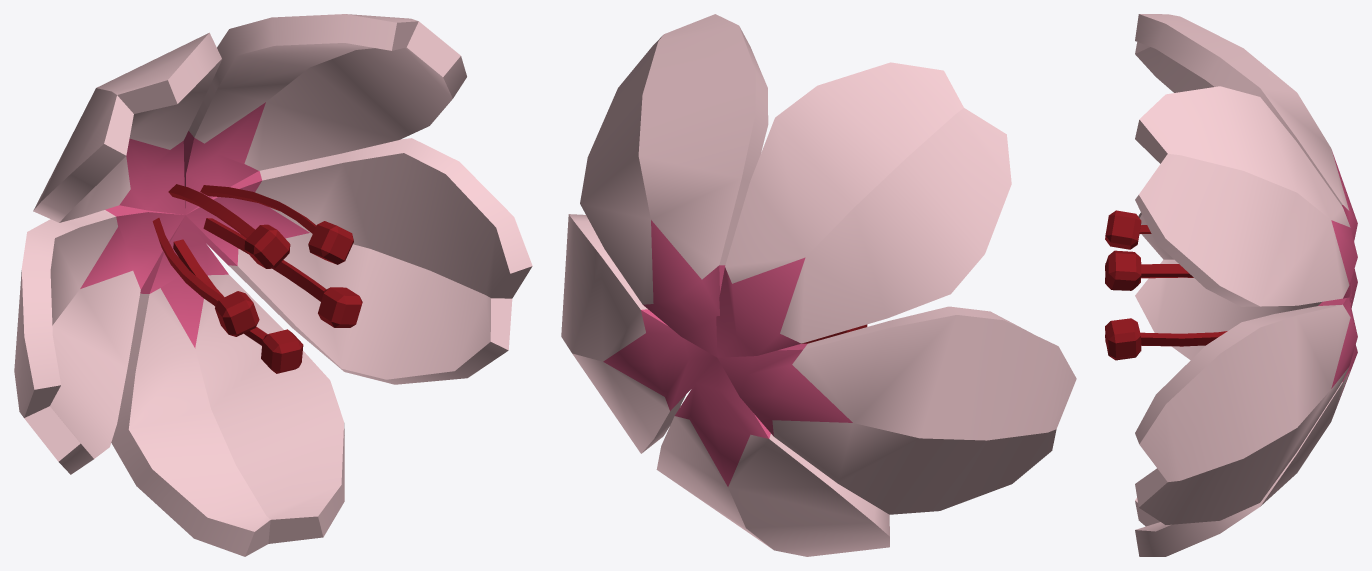
The model's file is Decoration_SakuraFlower.fbx.
3 views of the same model, side by side, from view 1: azimuth 30°, elevation 25°; view 2: azimuth 150°, elevation 25°; view 3: azimuth 270°, elevation 25° (orthographic). The views are drawn at different scales.
Parts seen in each view (by area): view 1: Decoration_SakuraFlower; view 2: Decoration_SakuraFlower; view 3: Decoration_SakuraFlower.
Part boxes in pixels (box(x1,y1,x2,y2)): Decoration_SakuraFlower: box(14, 14, 532, 556); Decoration_SakuraFlower: box(561, 14, 1076, 556); Decoration_SakuraFlower: box(1105, 14, 1357, 556).
Size of the model in its own units: 97.15 by 95.4 by 44.95.
